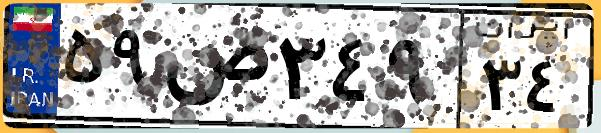3: (270, 28, 330, 110), (475, 38, 525, 113)
4: (330, 28, 385, 110), (525, 38, 570, 115)
5: (57, 26, 110, 100)
9: (385, 28, 445, 110), (110, 28, 158, 98)
ص: (158, 20, 270, 120)
